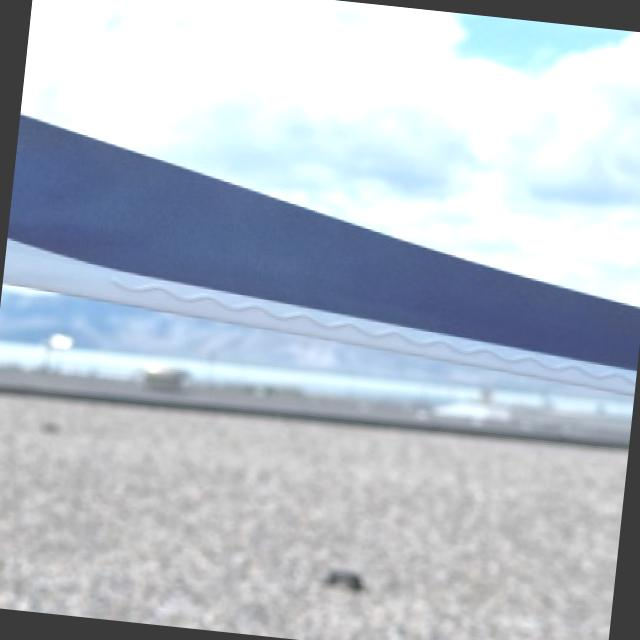healthy: (2, 115, 637, 396)
